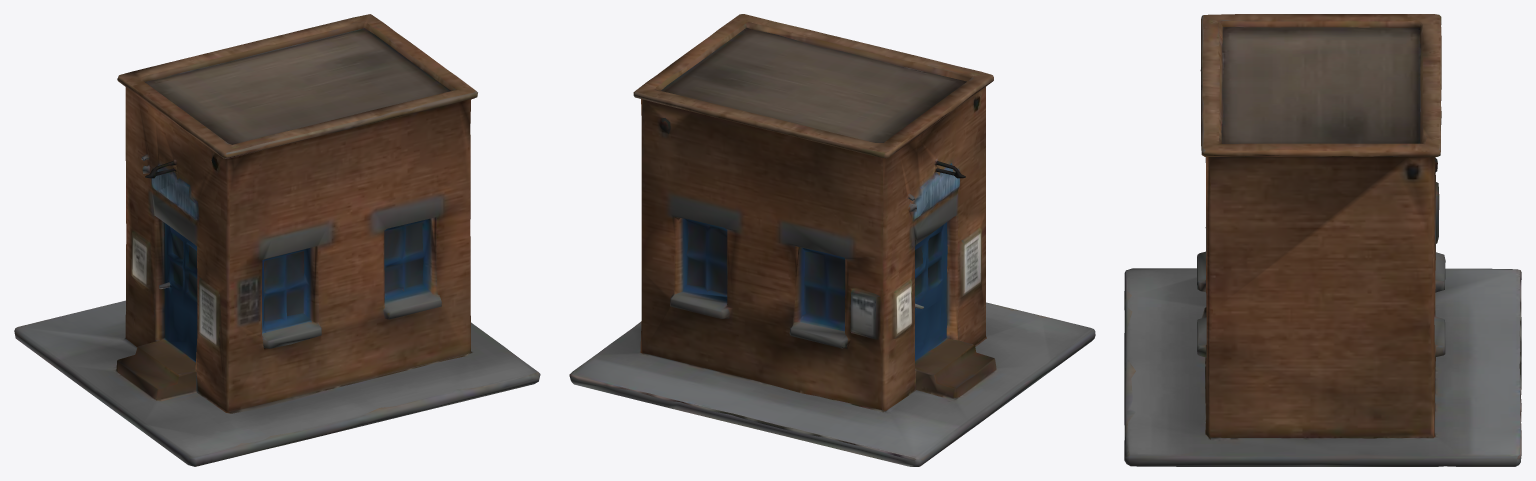
Rendered from police.glb.
The picture shows the model from 3 angles, left to right: view 1: azimuth 30°, elevation 25°; view 2: azimuth 150°, elevation 25°; view 3: azimuth 270°, elevation 25°; orthographic projection. The views are drawn at different scales.
Bounding box in the file's own units: 1 × 0.7426 × 0.885.
1 material, 1 textured.
